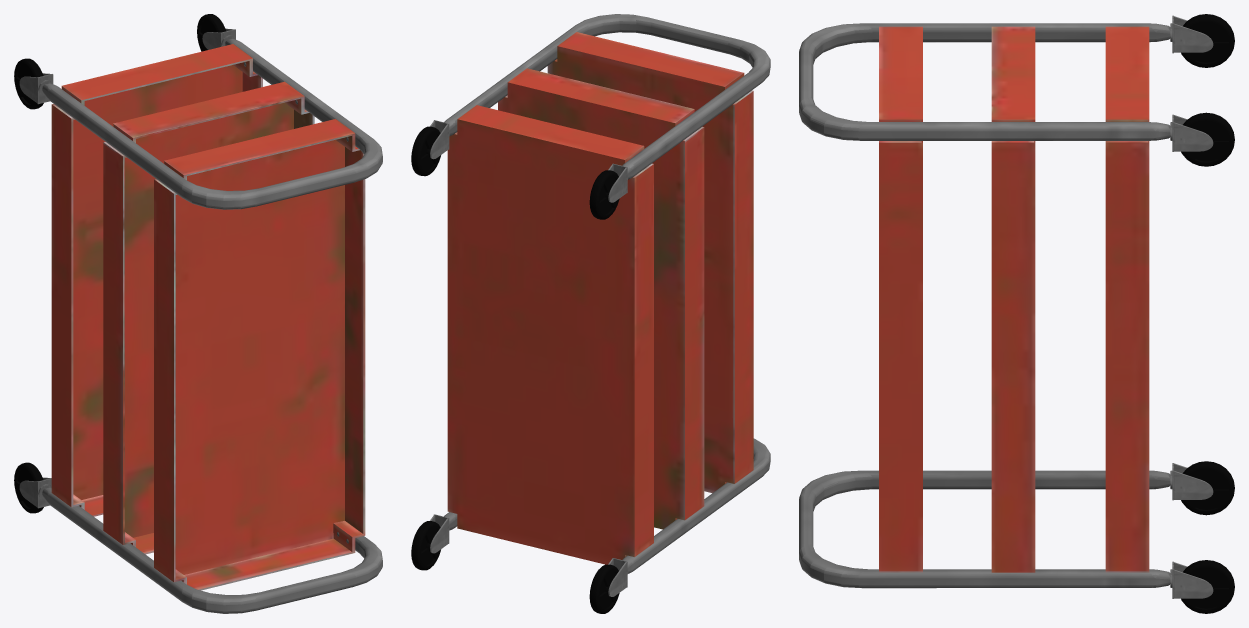
The model's file is tool_cart.glb.
3 renders of one model, left to right at view 1: azimuth 30°, elevation 25°; view 2: azimuth 150°, elevation 25°; view 3: azimuth 270°, elevation 25°, orthographic. The views are drawn at different scales.
Visible parts, largest first — view 1: Buckets, Bars, Wheel_4, Wheel_2, Bracket_2, Bracket_4, Wheel_3; view 2: Buckets, Bars, Wheel_3, Wheel_2, Wheel_1, Wheel_4, Bracket_1, Bracket_3, Bracket_4, Bracket_2; view 3: Buckets, Bars, Wheel_1, Wheel_2, Wheel_3, Wheel_4, Bracket_3, Bracket_2, Bracket_1, Bracket_4.
Boxes of the visible parts, x1,y1,x2,y2 form: Buckets: (51,44,365,590); Bars: (42,38,382,613); Wheel_4: (14,462,43,513); Wheel_2: (14,58,43,109); Bracket_2: (19,73,53,104); Bracket_4: (19,477,51,508); Wheel_3: (197,14,225,51); Buckets: (447,32,753,564); Bars: (444,14,770,573); Wheel_3: (411,126,440,176); Wheel_2: (589,170,619,219); Wheel_1: (411,521,440,570); Wheel_4: (589,564,619,613); Bracket_1: (430,514,449,553); Bracket_3: (430,120,449,159); Bracket_4: (608,558,628,596); Bracket_2: (608,163,628,202); Buckets: (879,26,1149,572); Bars: (799,23,1170,588); Wheel_1: (1181,560,1234,613); Wheel_2: (1181,14,1234,67); Wheel_3: (1181,112,1234,166); Wheel_4: (1181,461,1234,515); Bracket_3: (1170,114,1213,151); Bracket_2: (1170,15,1213,53); Bracket_1: (1170,561,1213,598); Bracket_4: (1170,463,1213,500).
Bounding box in the file's own units: 0.4448 × 0.967 × 0.7656.
Materials: 3 (3 with a texture image).
